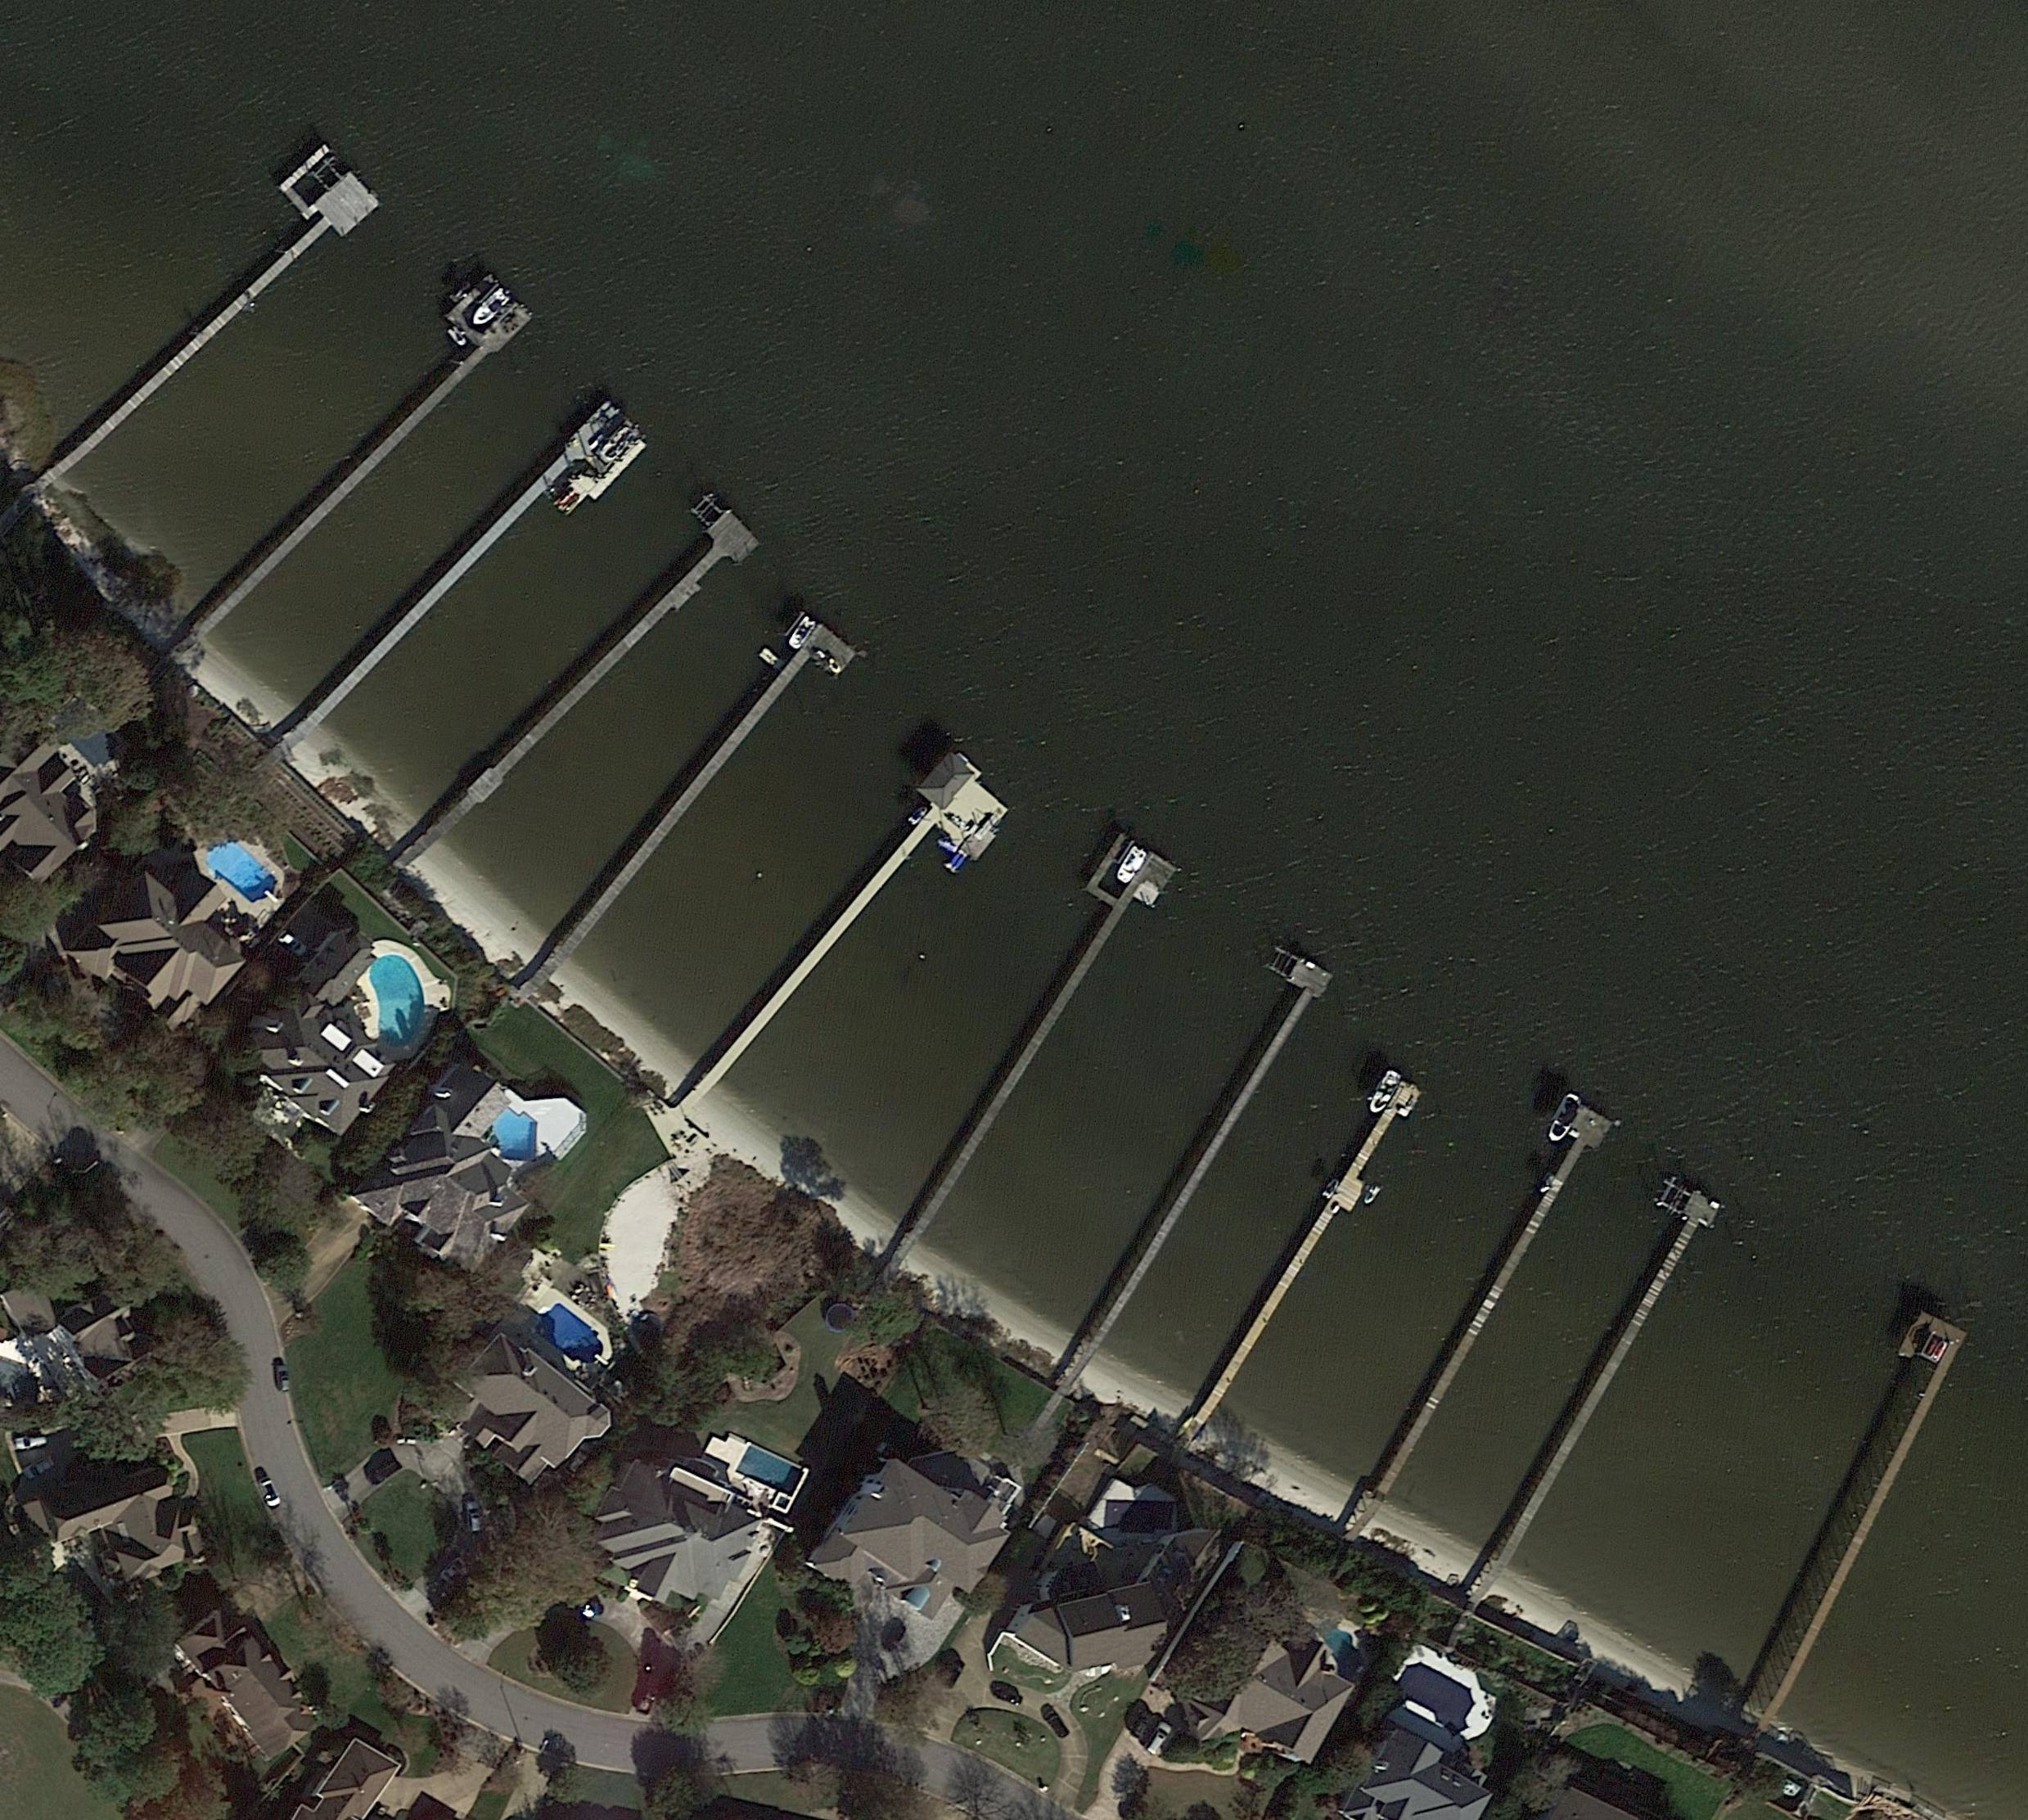harbor: (170, 265, 534, 648), (406, 490, 761, 850), (886, 822, 1181, 1251), (32, 139, 381, 492), (694, 747, 1016, 1119), (543, 608, 859, 977), (322, 401, 650, 754), (1346, 1089, 1620, 1506), (1063, 947, 1332, 1351), (1467, 1174, 1724, 1571), (1736, 1307, 1970, 1713), (1188, 1065, 1429, 1419)
ship: (1543, 1089, 1589, 1149), (466, 285, 513, 334), (1364, 1066, 1404, 1117), (1111, 838, 1153, 885)
small vehicle: (272, 926, 311, 961), (1039, 1704, 1074, 1743), (935, 1653, 968, 1692), (1142, 1718, 1174, 1757), (255, 1474, 283, 1513), (439, 1555, 471, 1586), (989, 1683, 1026, 1708), (1128, 1708, 1155, 1741), (464, 1502, 485, 1534), (276, 1361, 292, 1393)
swimming pool: (367, 949, 429, 1049), (202, 834, 283, 908), (531, 1298, 612, 1372), (489, 1100, 548, 1168), (736, 1446, 807, 1497)
